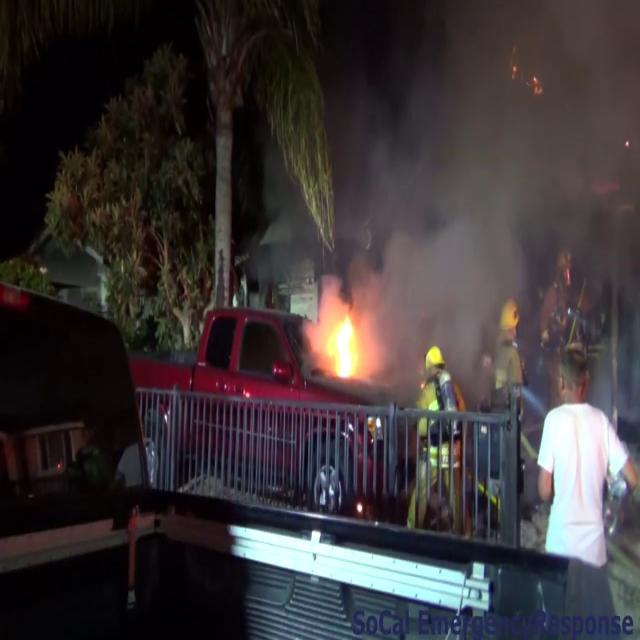Fire: (312, 294, 371, 388)
Smoke: (334, 0, 640, 344)
